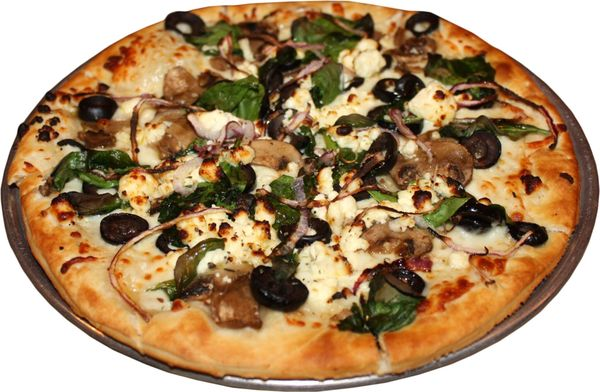sandwich: (6, 3, 587, 382)
